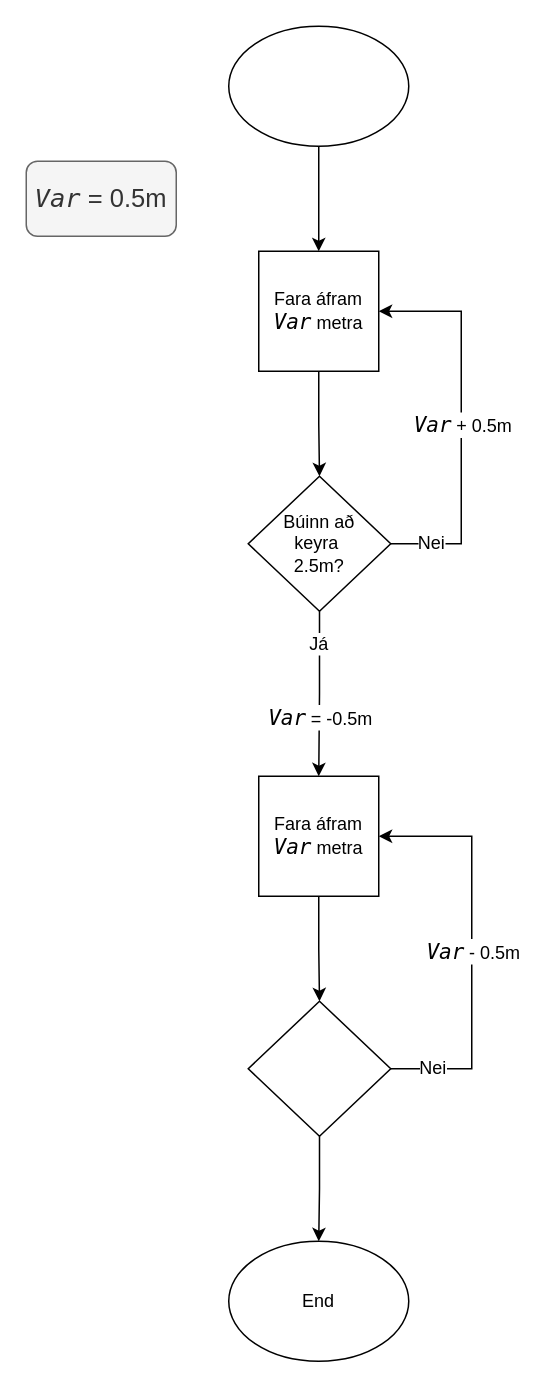
Some shapes in this 545 by 1388 pixel diagram are drawn without their labels. Here are the shapes that lost their labels. From the top down, the centre of each, then its label:
At point (318, 85): "Start".
At point (319, 1068): "Búinn að keyra -2.5m?".
